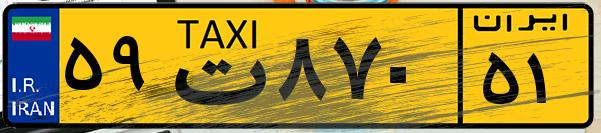0: (385, 28, 445, 110)
1: (525, 38, 570, 115)
5: (57, 26, 110, 100), (475, 38, 525, 113)
7: (330, 28, 385, 110)
8: (270, 28, 330, 110)
9: (110, 28, 158, 98)
ت: (158, 12, 270, 120)
